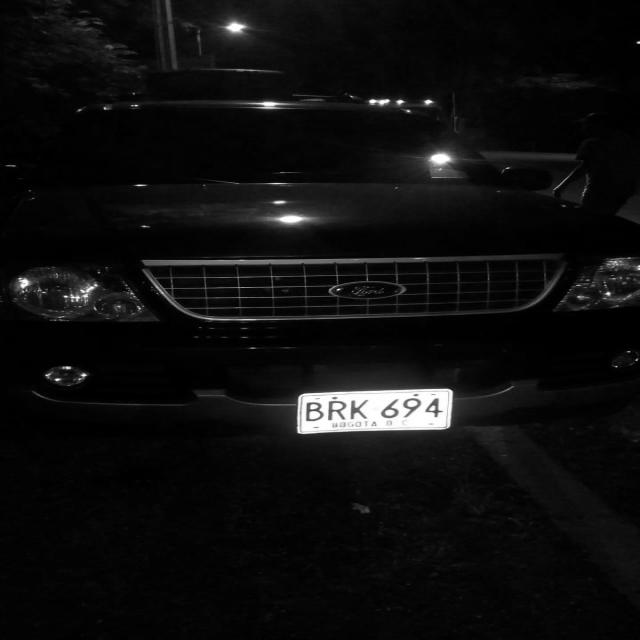plate: (300, 389, 454, 435)
